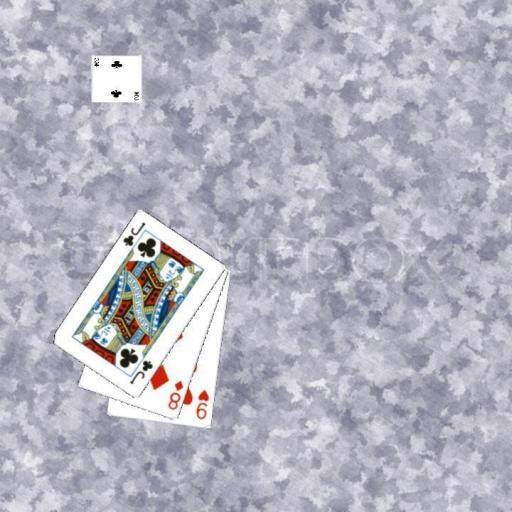card-corner: (127, 357, 154, 386), (120, 219, 147, 248), (165, 378, 185, 412), (194, 387, 210, 421)
